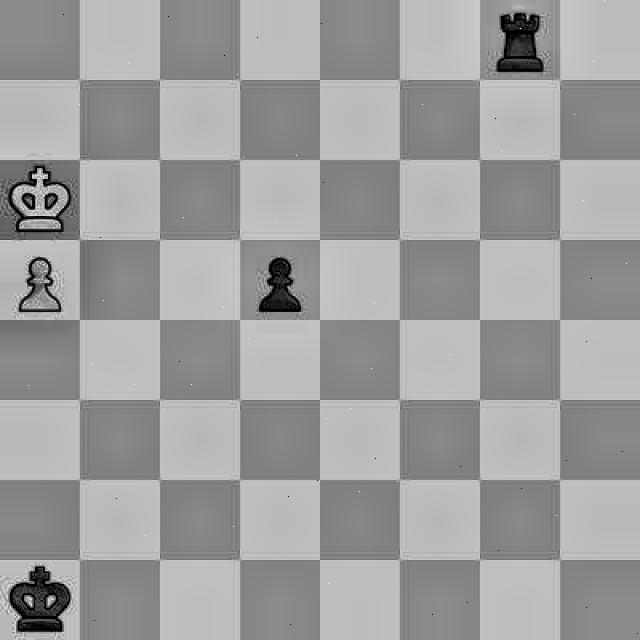black king: (0, 555, 75, 639)
black pawn: (246, 241, 322, 319)
black rook: (483, 5, 555, 79)
white king: (0, 160, 82, 238)
white pawn: (0, 241, 79, 318)
